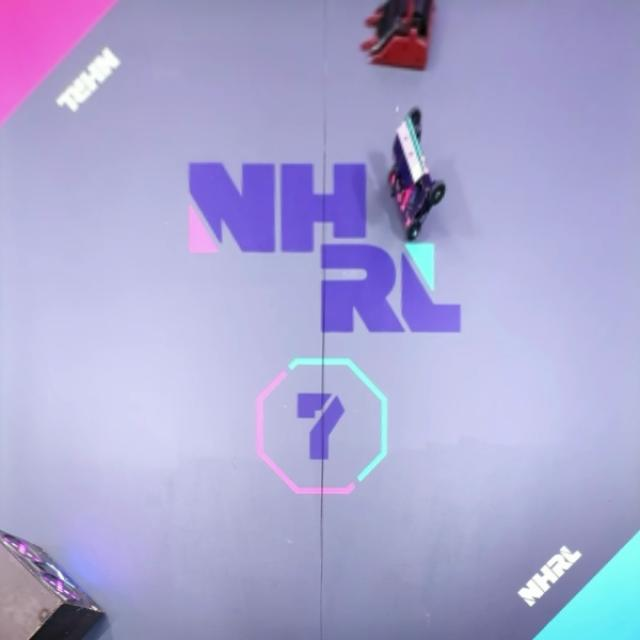housebot: (0, 527, 108, 639)
robot: (388, 106, 448, 242), (358, 0, 434, 72)
